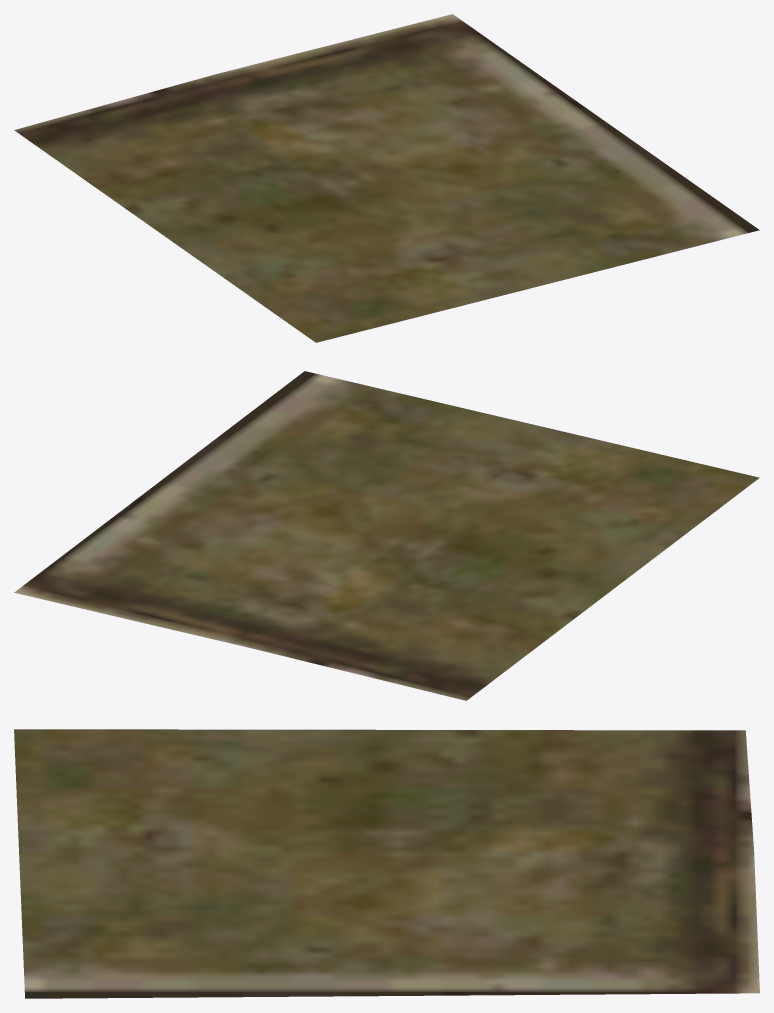
The model's file is CH09_SMAUG_PLAYSURFACE_LAIR503.fbx.
3 views of the same model, one above another, from view 1: azimuth 30°, elevation 25°; view 2: azimuth 150°, elevation 25°; view 3: azimuth 270°, elevation 25° (orthographic). The views are drawn at different scales.
Parts seen in each view (by area): view 1: CH09_SMAUG_PLAYSURFACE_LAIR503; view 2: CH09_SMAUG_PLAYSURFACE_LAIR503; view 3: CH09_SMAUG_PLAYSURFACE_LAIR503.
Part boxes in pixels (box(x1,y1,x2,y2)): CH09_SMAUG_PLAYSURFACE_LAIR503: box(14, 14, 759, 342); CH09_SMAUG_PLAYSURFACE_LAIR503: box(14, 371, 759, 700); CH09_SMAUG_PLAYSURFACE_LAIR503: box(14, 729, 759, 998).
Bounding box in the file's own units: 14607 × 107 × 16895.
Materials: 1 (1 with a texture image).
